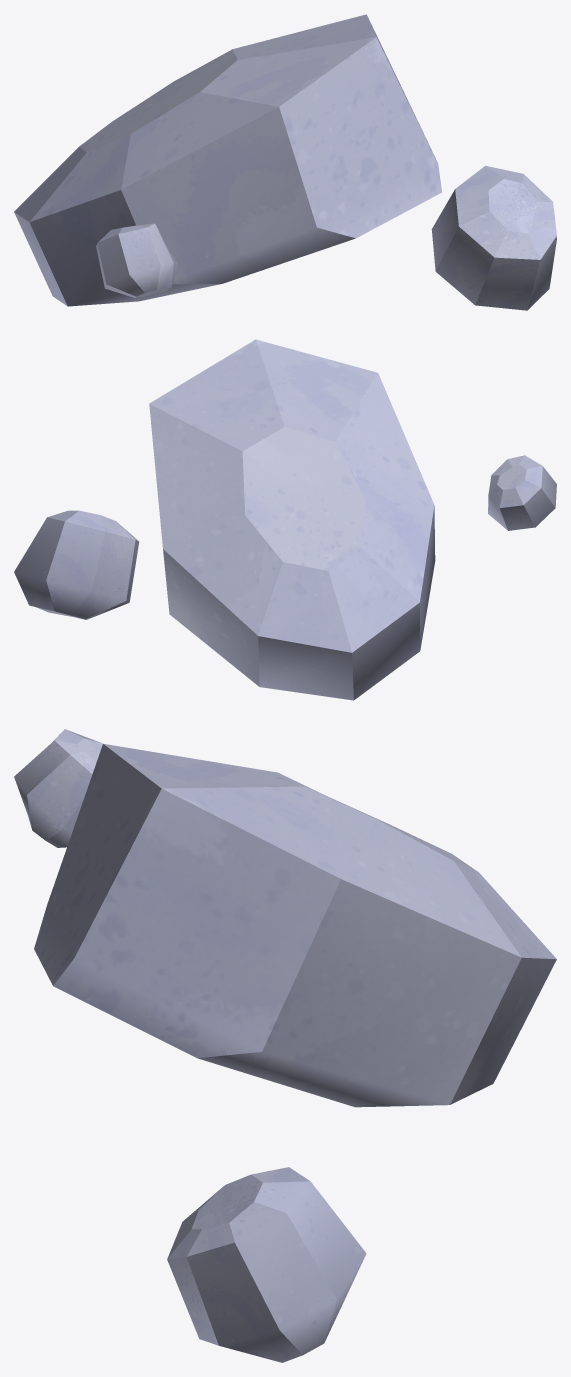
Rendered from SM_rockCluster2.fbx.
The picture shows the model from 3 angles, top to bottom: view 1: azimuth 30°, elevation 25°; view 2: azimuth 150°, elevation 25°; view 3: azimuth 270°, elevation 25°; orthographic projection. The views are drawn at different scales.
Visible parts, largest first — view 1: rockCluster2; view 2: rockCluster2; view 3: rockCluster2.
Part boxes in pixels (x1,y1,x2,y2): rockCluster2: [14, 14, 556, 310]; rockCluster2: [14, 339, 556, 700]; rockCluster2: [14, 729, 556, 1362].
Bounding box in the file's own units: 16.27 × 9.66 × 10.59.
